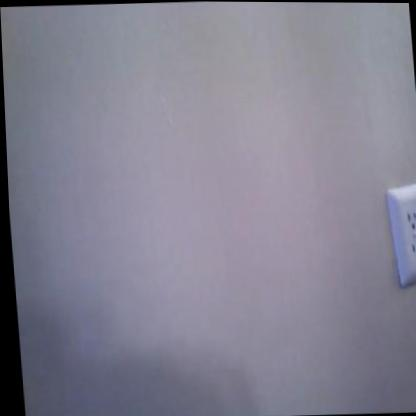OUTLET: (388, 182, 416, 285)
